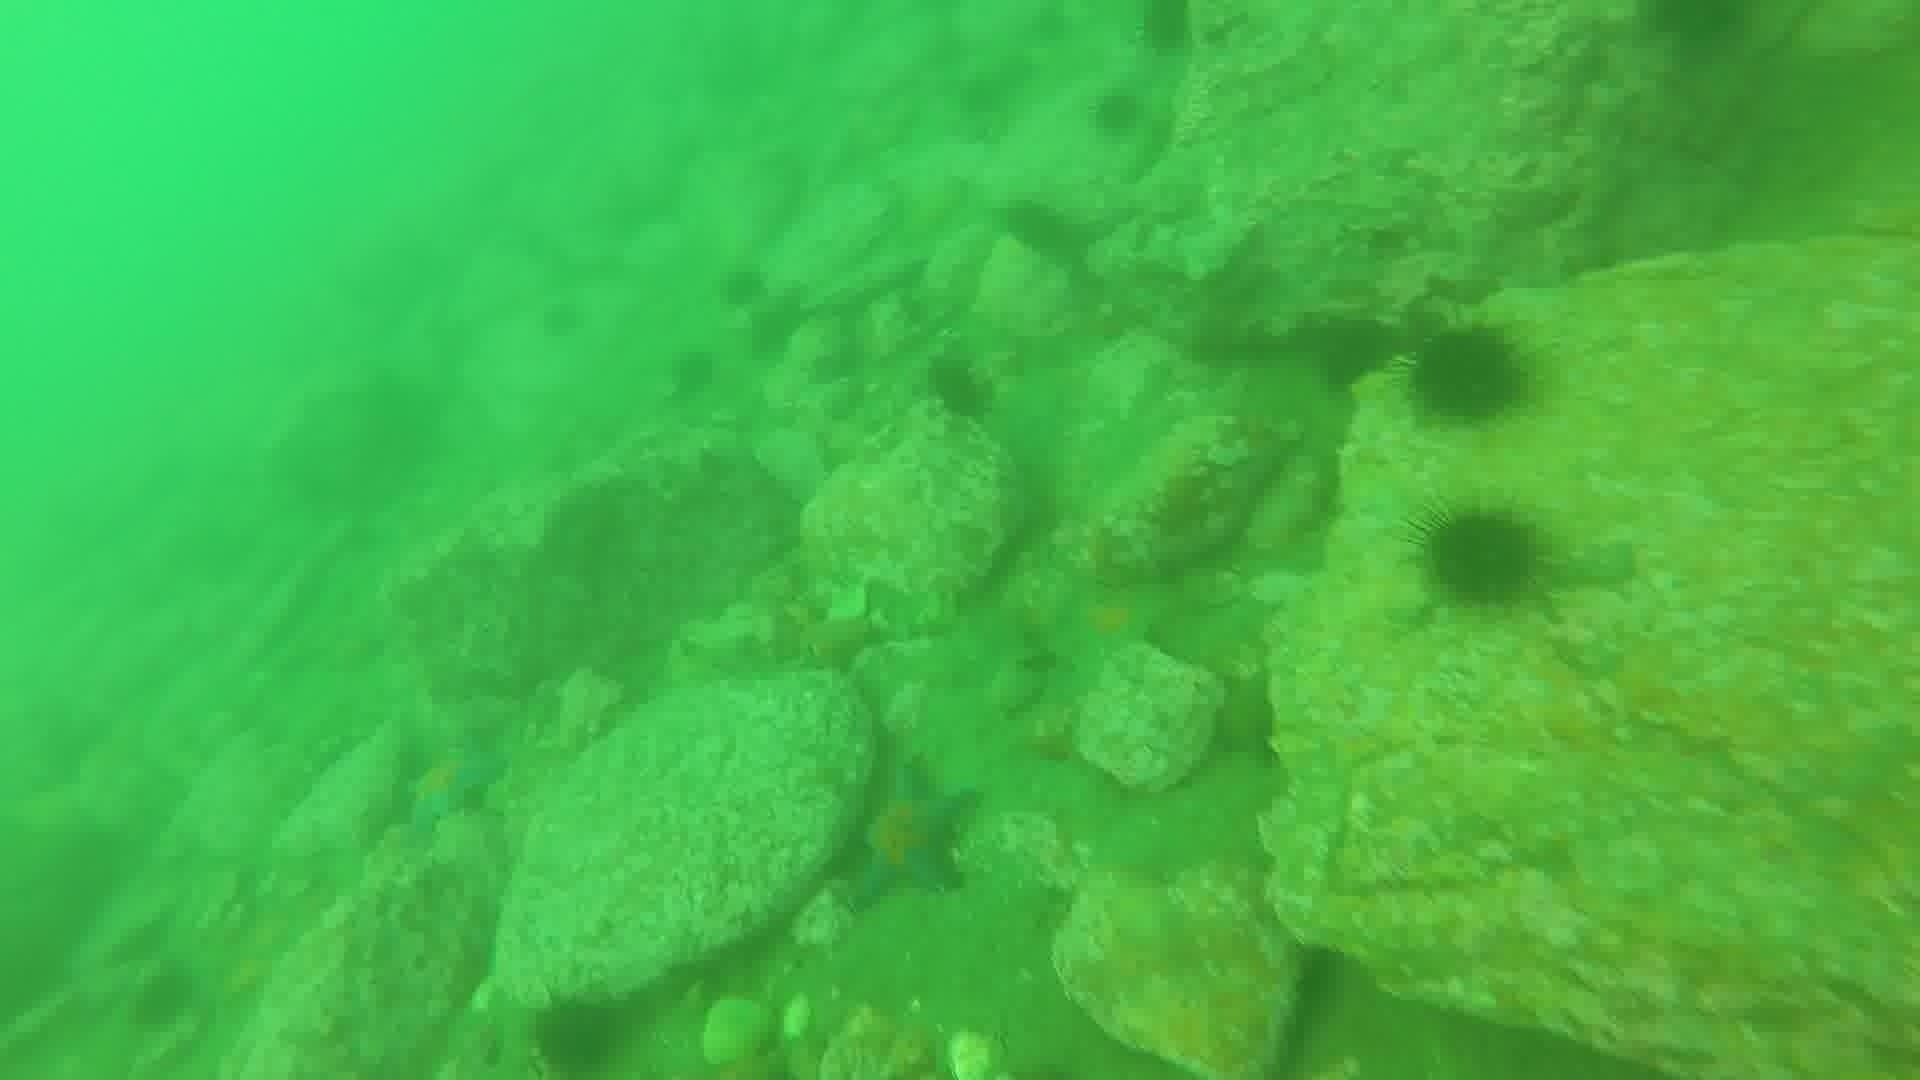echinus: (1411, 498, 1549, 613), (1400, 319, 1534, 429), (525, 992, 628, 1073), (1309, 313, 1400, 396), (1633, 1, 1760, 59), (920, 349, 1000, 426), (998, 194, 1079, 264), (125, 963, 200, 1035), (741, 291, 810, 363), (1131, 1, 1203, 61), (663, 344, 723, 405), (1087, 84, 1149, 142), (713, 260, 771, 314), (534, 294, 589, 344)
starfish: (837, 758, 982, 913), (393, 733, 510, 835), (1050, 576, 1166, 667)
